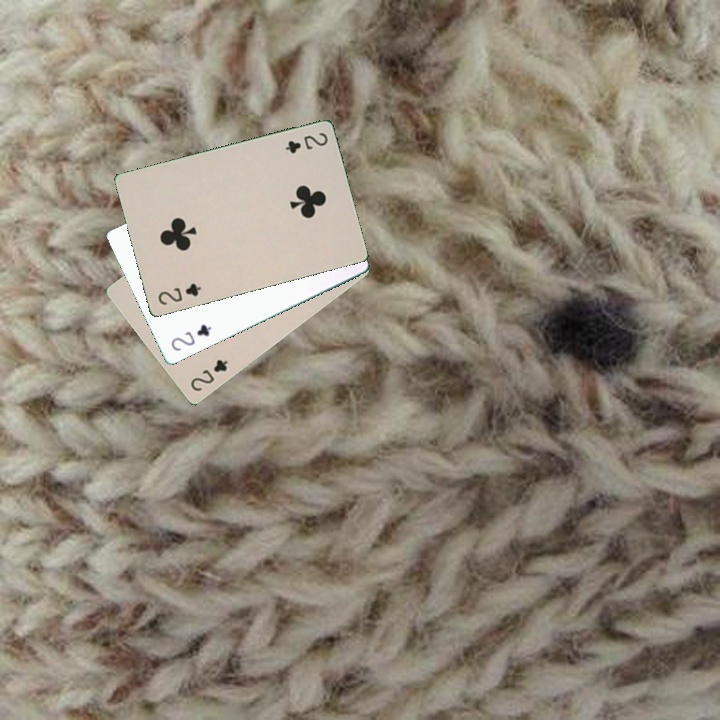2c: (186, 355, 230, 394), (167, 320, 214, 354), (154, 279, 204, 308), (281, 128, 330, 156)
